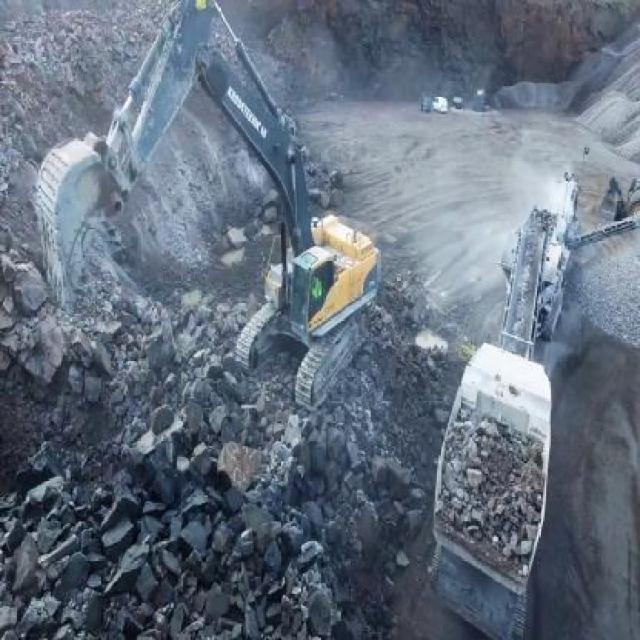Excavator: (35, 0, 380, 408)
